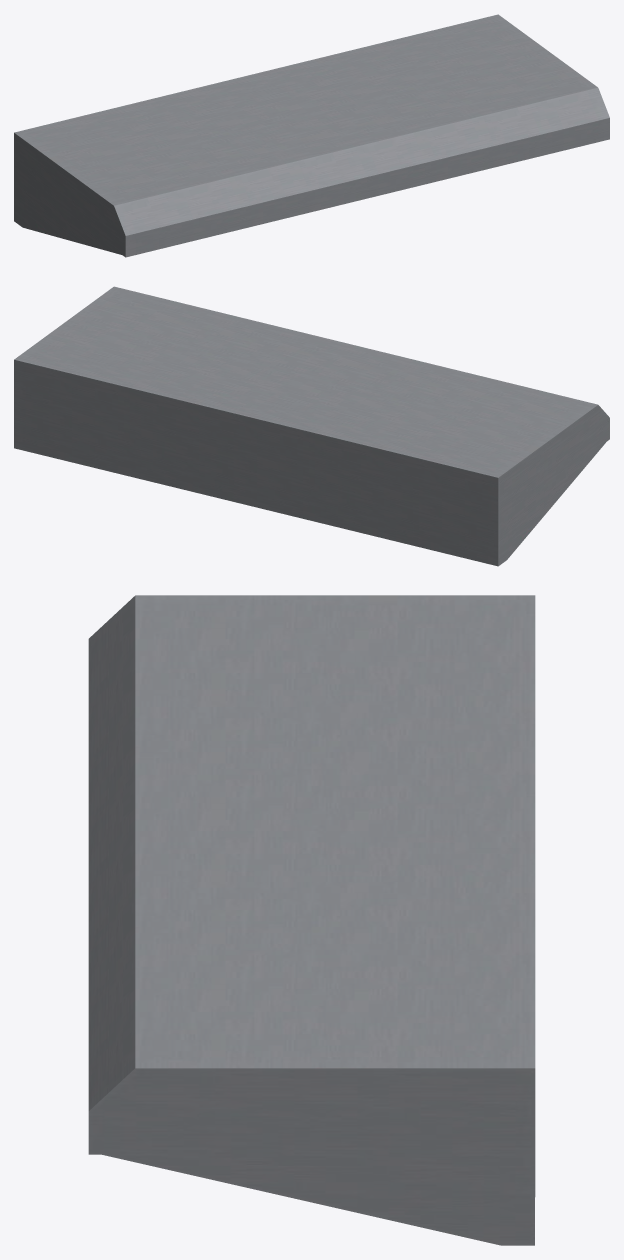
File: SM_Ventilation_System_01.glb
3 renders of one model, top to bottom at view 1: azimuth 30°, elevation 25°; view 2: azimuth 150°, elevation 25°; view 3: azimuth 270°, elevation 25°, orthographic. The views are drawn at different scales.
Visible parts, largest first — view 1: SM_Ventilation_System_01; view 2: SM_Ventilation_System_01; view 3: SM_Ventilation_System_01.
Part boxes in pixels (x1,y1,x2,y2): SM_Ventilation_System_01: [14, 14, 609, 257]; SM_Ventilation_System_01: [14, 286, 609, 566]; SM_Ventilation_System_01: [88, 595, 535, 1245].
Bounding box in the file's own units: 3 × 0.5247 × 1.2.
Materials: 1 (1 with a texture image).
